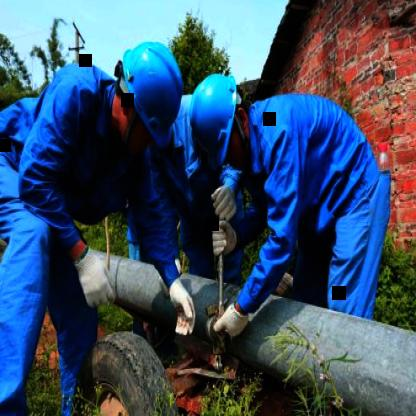helmet: (110, 31, 191, 154), (177, 73, 240, 172)
